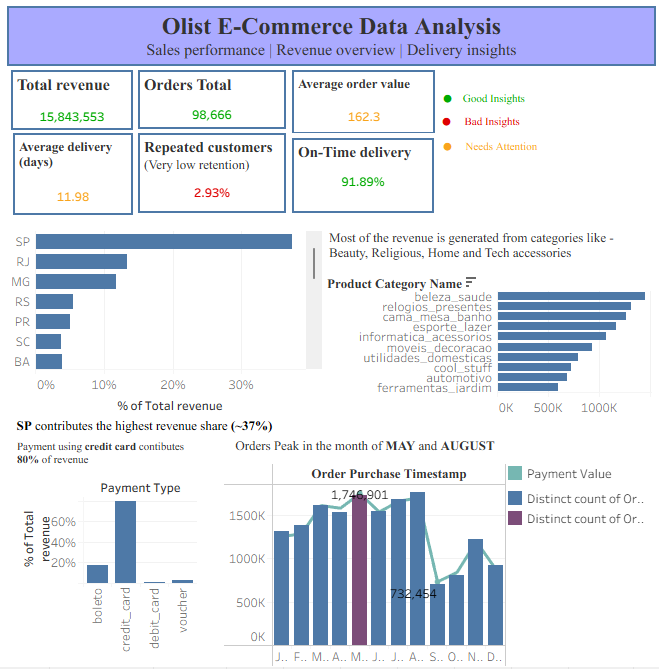

The dashboard page shown, as its layout file describes it:
{"tool":"tableau","page":{"name":"Dashboard 1","canvas":[650,860],"ordinal":0},"visuals":[{"type":"title","box":[0,7.4,649,77.9]},{"type":"text","box":[432,88.2,131,47]},{"type":"worksheet","title":"Sheet 3","mark":"Automatic","box":[4,89.7,122,77.9]},{"type":"worksheet","title":"Sheet 8","mark":"Automatic","box":[131,89.7,148,76.4]},{"type":"worksheet","title":"Sheet 9","mark":"Automatic","box":[285,89.7,143,82.3]},{"type":"text","box":[431,116.1,92,50]},{"type":"text","box":[432,149.9,107,47]},{"type":"worksheet","title":"Sheet 6","mark":"Automatic","box":[6,172,120,105.8]},{"type":"worksheet","title":"Sheet 7","mark":"Automatic","box":[131,172,148,102.9]},{"type":"worksheet","title":"Sheet 10","mark":"Automatic","box":[285,177.9,142,97]},{"type":"worksheet","title":"Sheet 13","mark":"Automatic","rows":["customer_state"],"cols":["Calculation_0795010077745152"],"box":[4,285.2,311,248.4]},{"type":"worksheet","title":"Sheet 1","mark":"Automatic","rows":["product_category_name"],"cols":["Calculation_0795010077745152"],"box":[318,291.1,327,258.7]},{"type":"text","box":[7,532.2,319,32.3]},{"type":"worksheet","title":"Sheet 11","mark":"Automatic","rows":["payment_value","order_id"],"cols":["order_purchase_timestamp"],"box":[217,560.1,282,299.9]},{"type":"worksheet","title":"Sheet 5","mark":"Bar","cols":["payment_type"],"box":[6,561.6,184,279.3]},{"type":"legend","title":"Sheet 11","param":"[federated.0t3vp390z5rpvh1bipwad15m5dkb].[:Measure Names]","box":[498,596.9,140,29.4]},{"type":"legend","title":"Sheet 11","param":"[federated.0t3vp390z5rpvh1bipwad15m5dkb].[:Measure Names]\n[federated.0t3vp390z5r","box":[498,629.2,146,60.3]},{"type":"legend","title":"Sheet 5","param":"[federated.0t3vp390z5rpvh1bipwad15m5dkb].[none:payment_type:nk]","box":[9,638,94,164.6]}]}

Visuals, with their boxes in screenshot pixels (x1, y1, x2, y2):
title: 125/4/623/64
text: 457/66/557/102
"Sheet 3" worksheet: 129/67/222/127
"Sheet 8" worksheet: 226/67/339/126
"Sheet 9" worksheet: 344/67/454/130
text: 456/87/527/126
text: 457/113/539/149
"Sheet 6" worksheet: 130/130/222/211
"Sheet 7" worksheet: 226/130/339/209
"Sheet 10" worksheet: 344/135/453/209
"Sheet 13" worksheet: 129/217/367/408
"Sheet 1" worksheet: 369/222/620/420
text: 131/407/376/431
"Sheet 11" worksheet: 292/428/508/658
"Sheet 5" worksheet (Bar marks): 130/429/271/643
"Sheet 11" legend: 507/456/615/479
"Sheet 11" legend: 507/481/619/527
"Sheet 5" legend: 132/488/204/614
